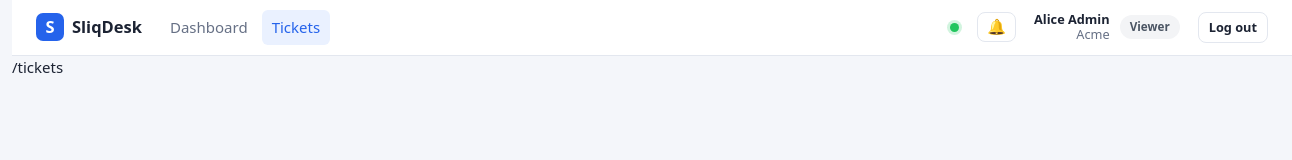
Test: Navbar › logs out and returns to /login
The image size is (1292, 160).
Click the button "Log out": (1233, 27) x1=1198 y1=12 x2=1268 y2=43
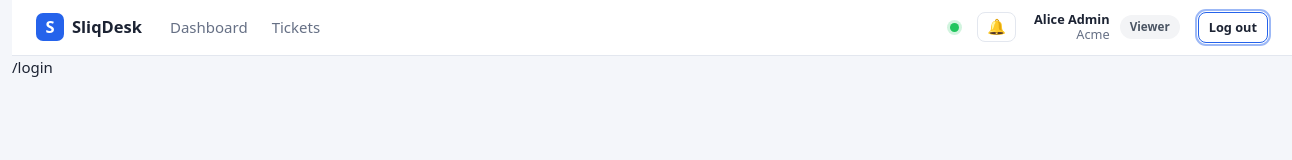
Now the text with test id "location" reads "/login", box x1=12 y1=56 x2=53 y2=76
